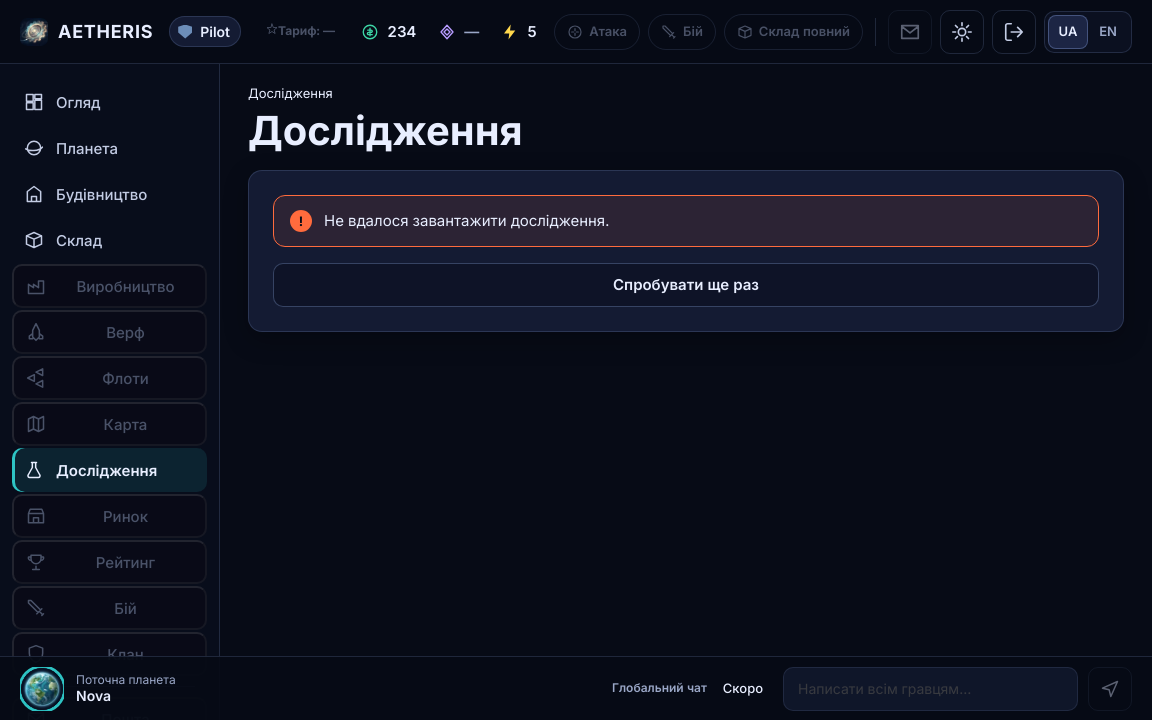
Scenario: ResearchPage: the screen of the research (task 00020) › shows the error with a retry when the tree did not load
The image size is (1152, 720).
Expected: the text "Не вдалося завантажити дослідження." is shown, x1=324 y1=210 x2=609 y2=231
Click the button "Спробувати ще раз" at (686, 285), box x1=273 y1=263 x2=1099 y2=307
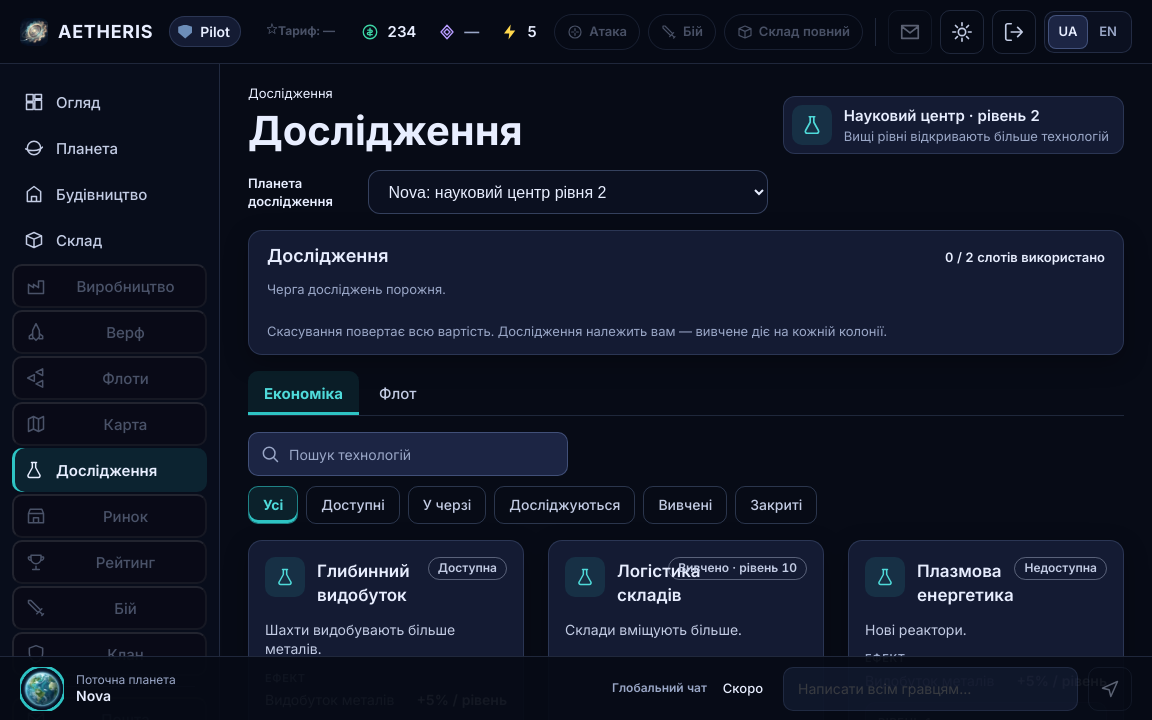
Expected: the element named "Гілки технологій" is shown, x1=248 y1=371 x2=1124 y2=416
